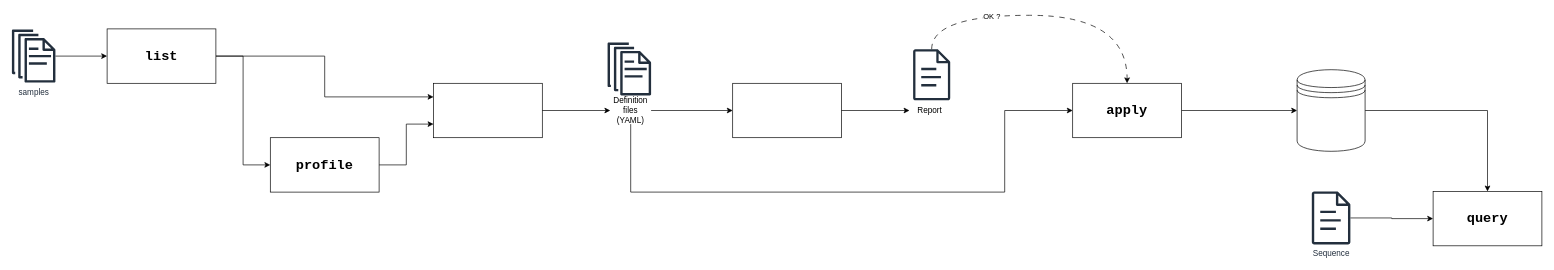
The diagram is 1554 pixels wide and 270 high, and some of its shapes have lost their labels. The shapes that lost their labels are listed below. From the top down, each one's centre as x and y in pixels, then its label:
At point (487, 110): "compose".
At point (787, 110): "plan".
At point (1330, 110): "INDEX".
